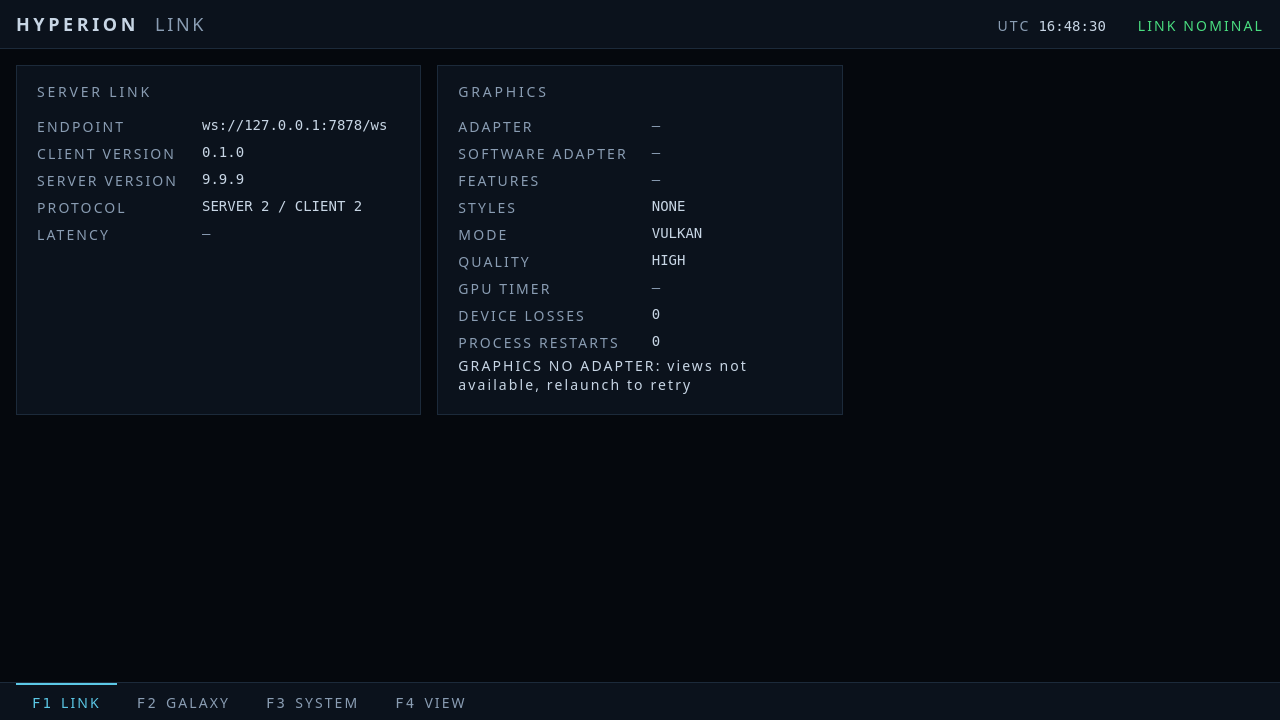
Scenario: the GALAXY display, end to end › sends the name and the seed typed when CREATE is given, and waits for the answer
Press F2
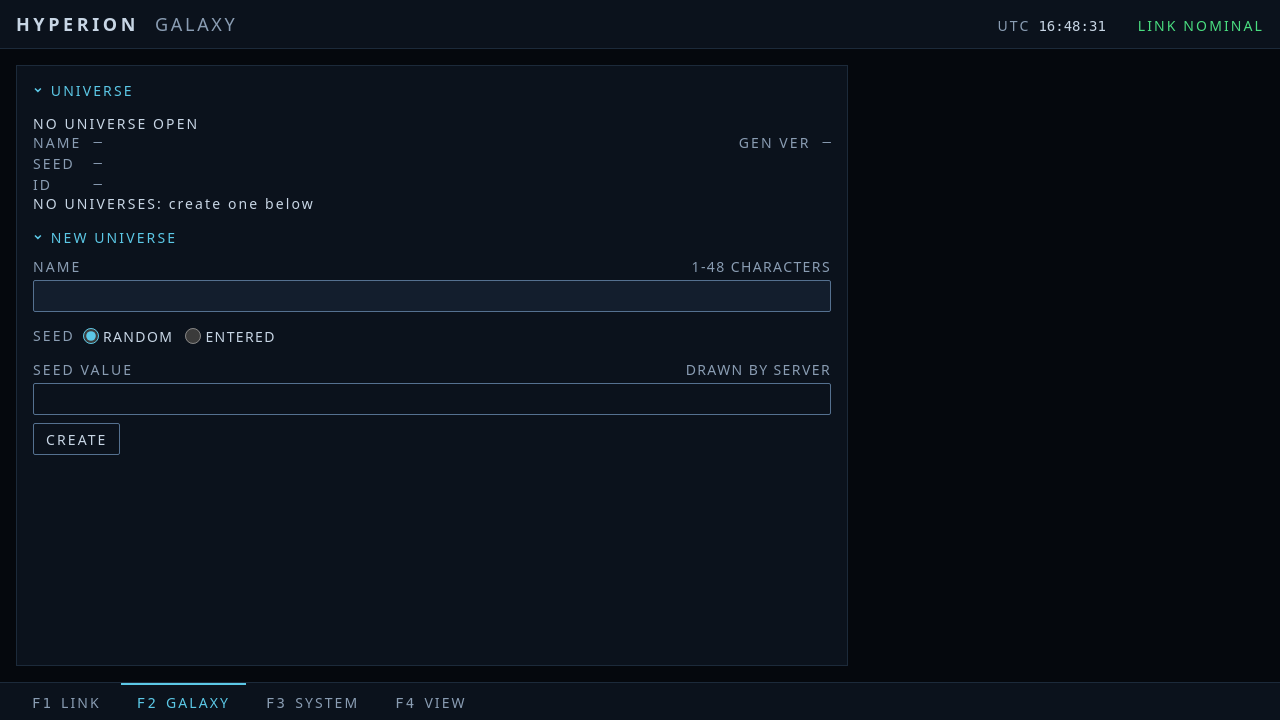
In the field labelled "NAME": [432, 296] box [33,280,831,312], type "SURVEY 1"
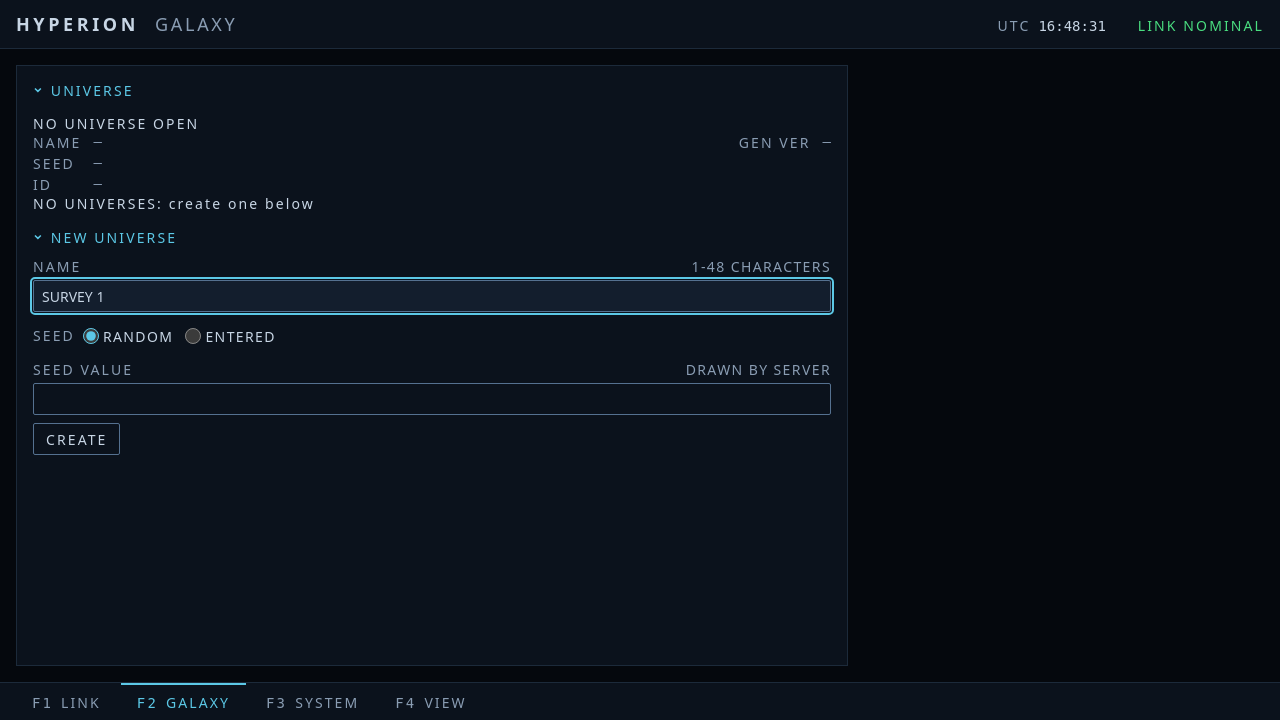
Click the radio button labelled "ENTERED": [193, 336] box [185,328,201,344]
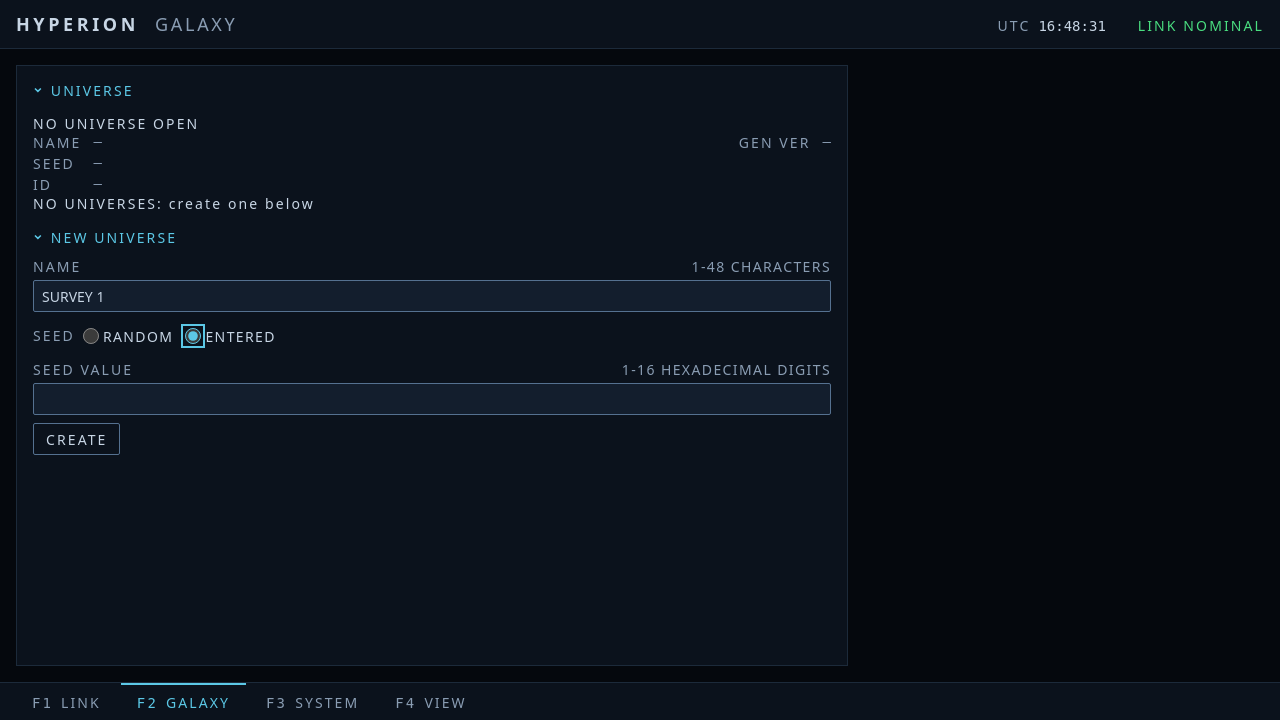
In the field labelled "SEED VALUE": [432, 399] box [33,383,831,415], type "4D2"
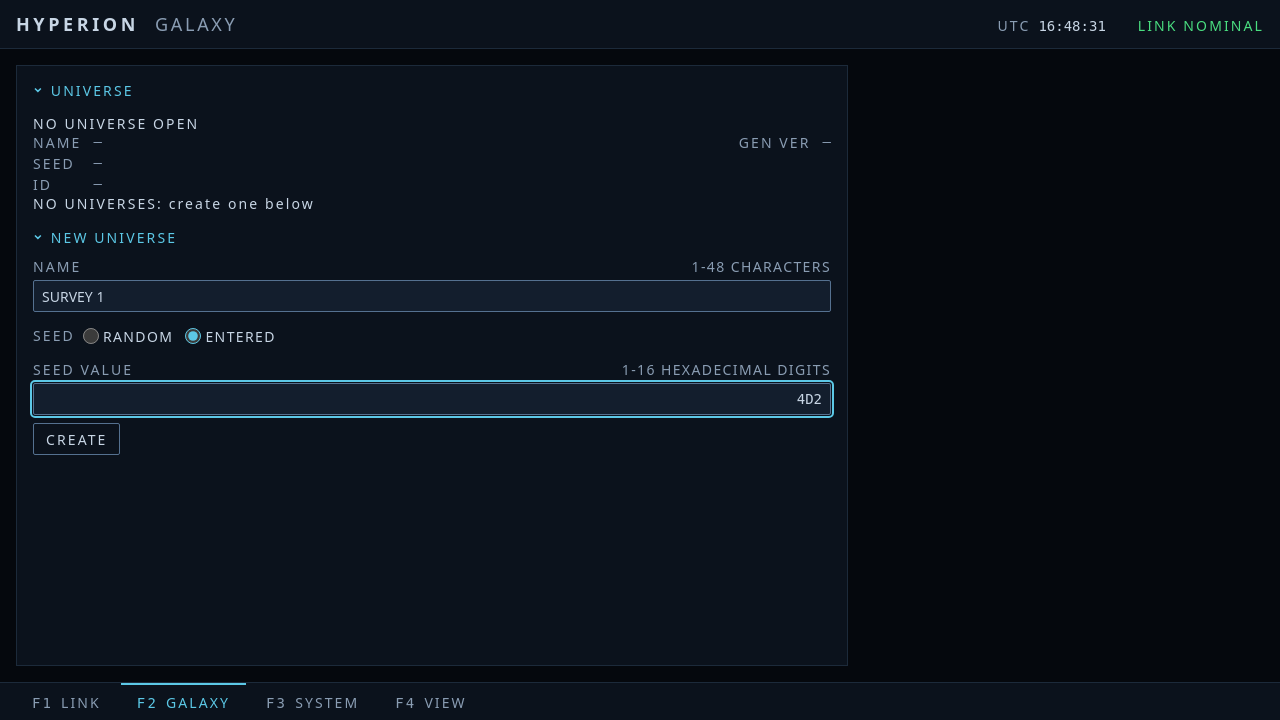
Click the button "CREATE": [77, 439] box [33,423,120,455]
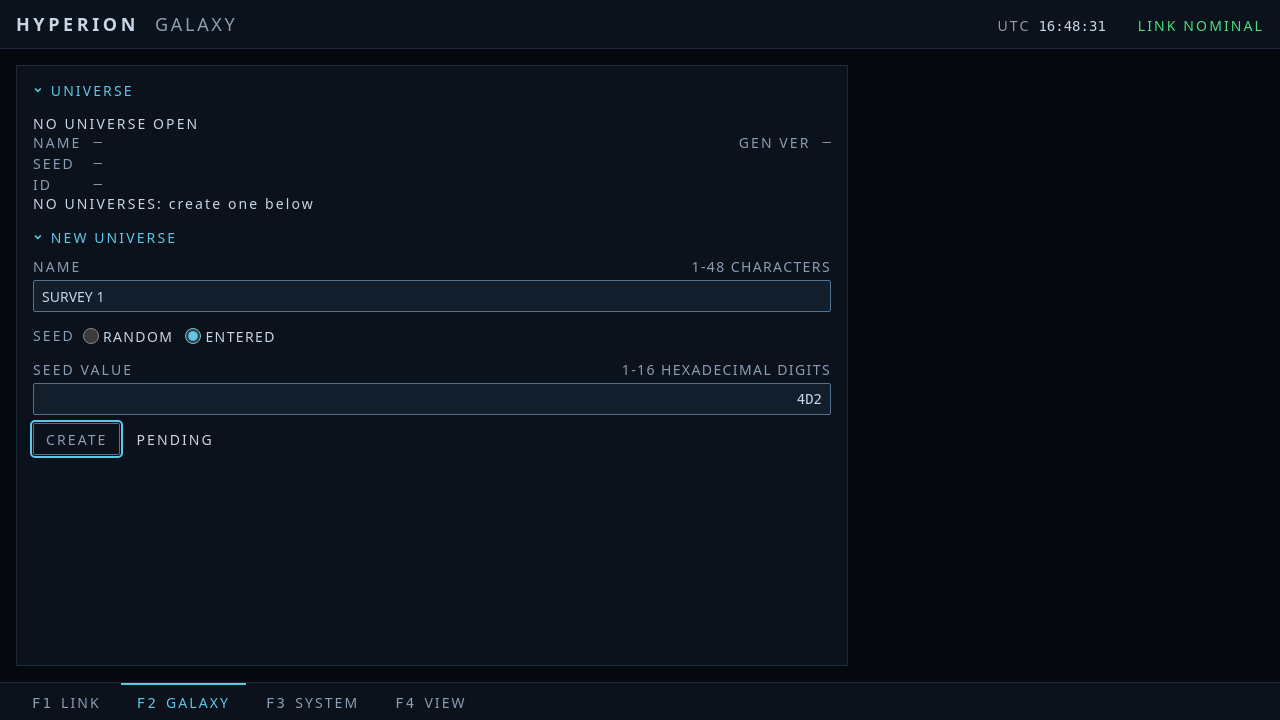
Expected: the text "PENDING" is shown, [136,430,214,448]
